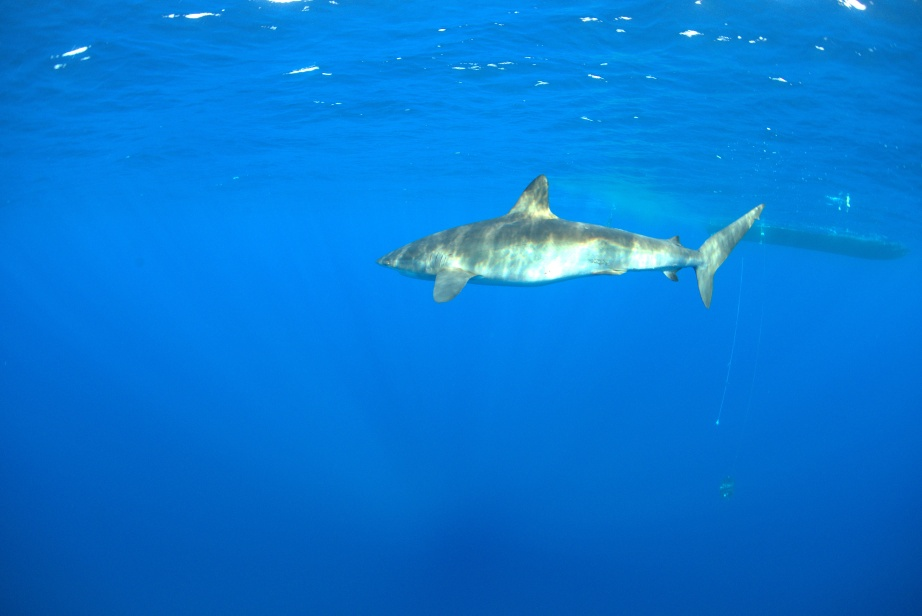Sedoso: (348, 169, 775, 322)
